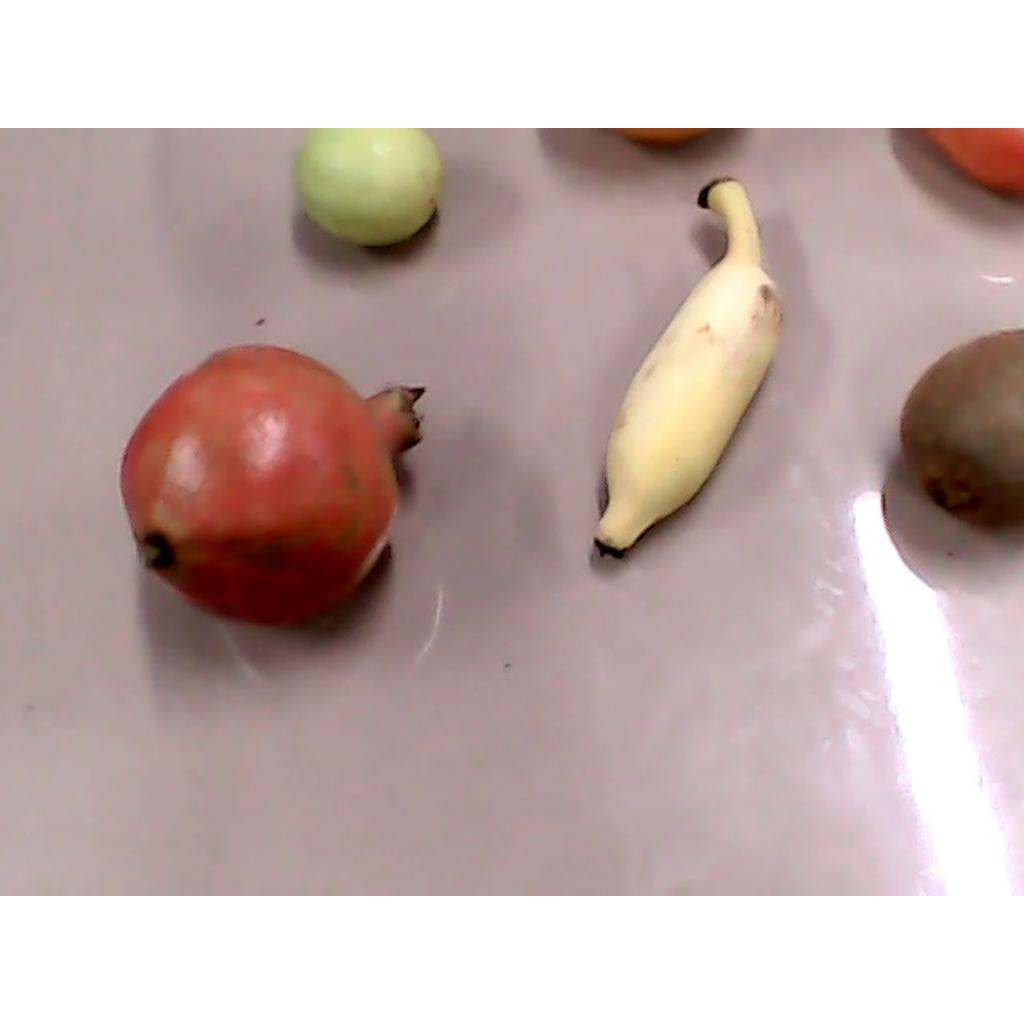kiwi: (902, 330, 1022, 527)
lemon: (295, 129, 442, 247)
pomegranate: (120, 343, 428, 629)
